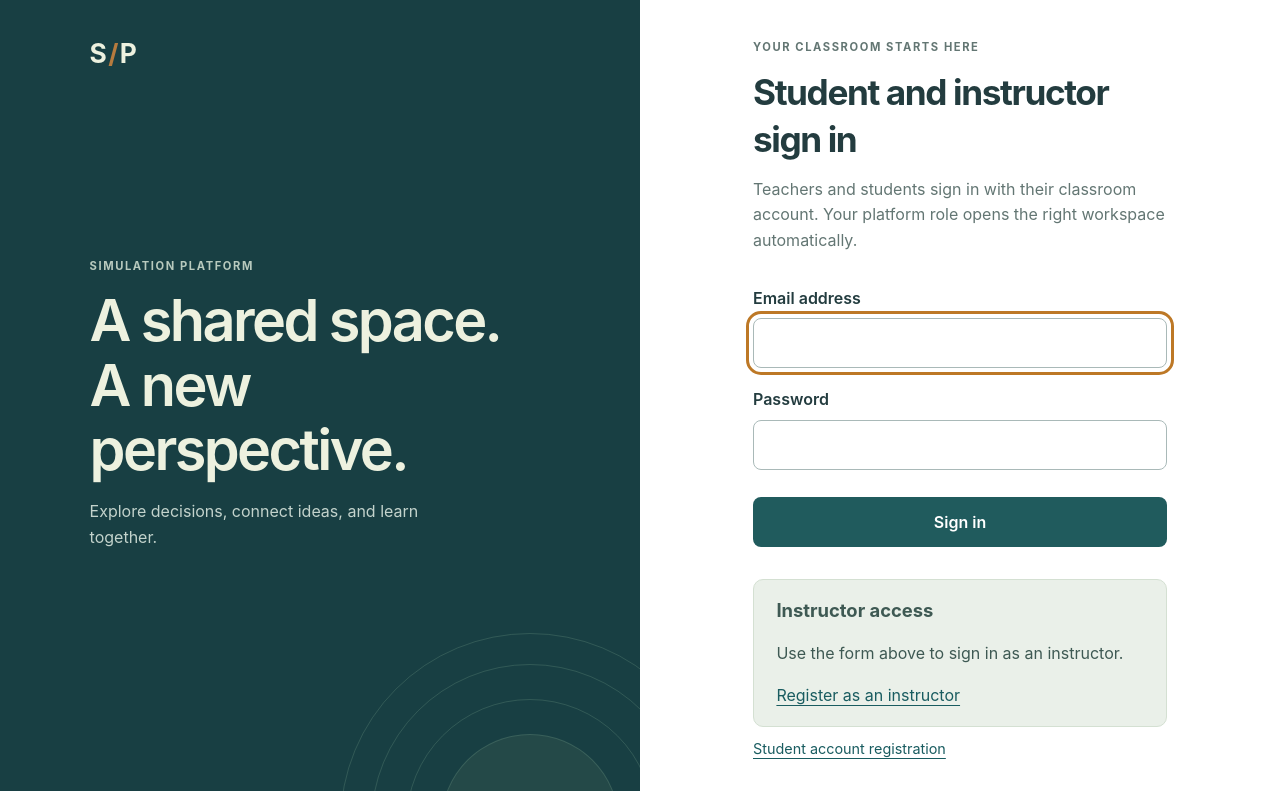
Test: protected routes › shows a friendly fallback for coded unexpected backend errors
Step 1. Type "student@example.test" into the field labelled "Email address" → [960, 343], box [753,318,1167,368]
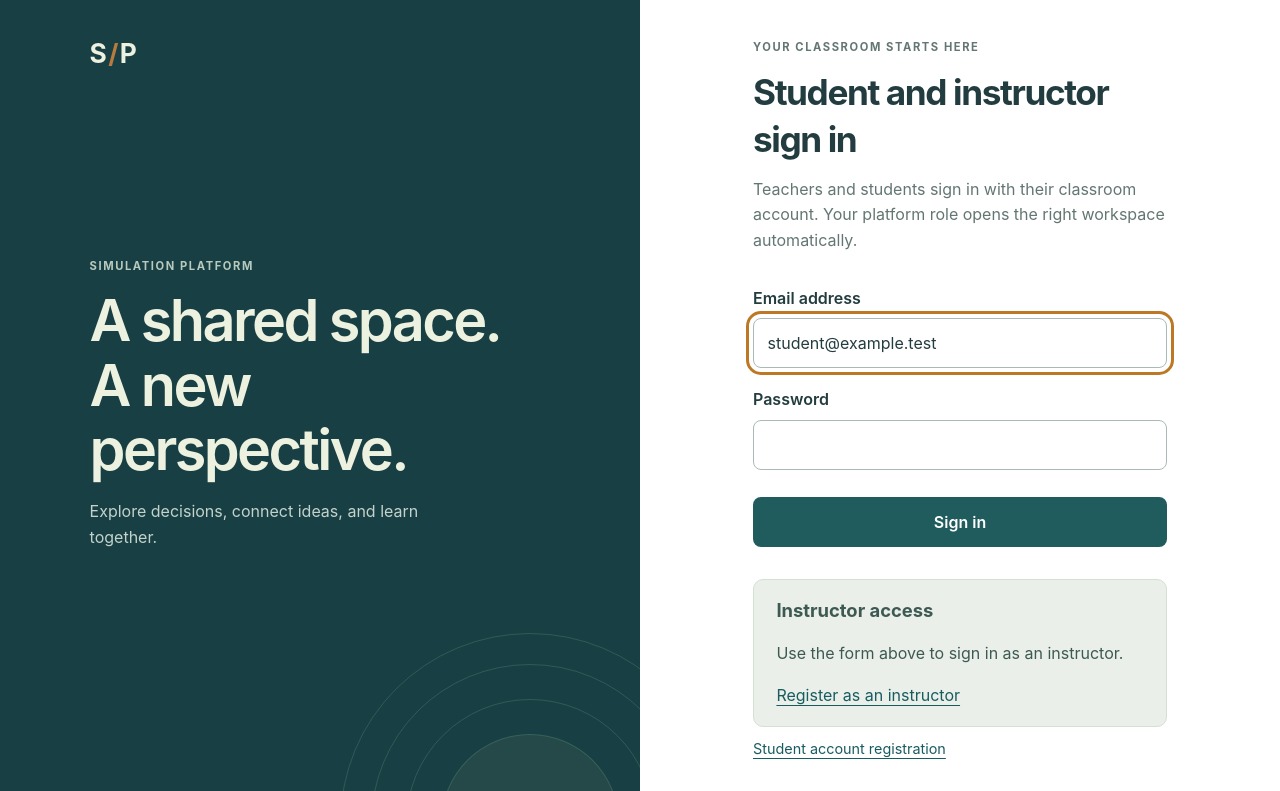
Step 2. Type "incorrect" into the password field labelled "Password" → [960, 445], box [753,420,1167,470]
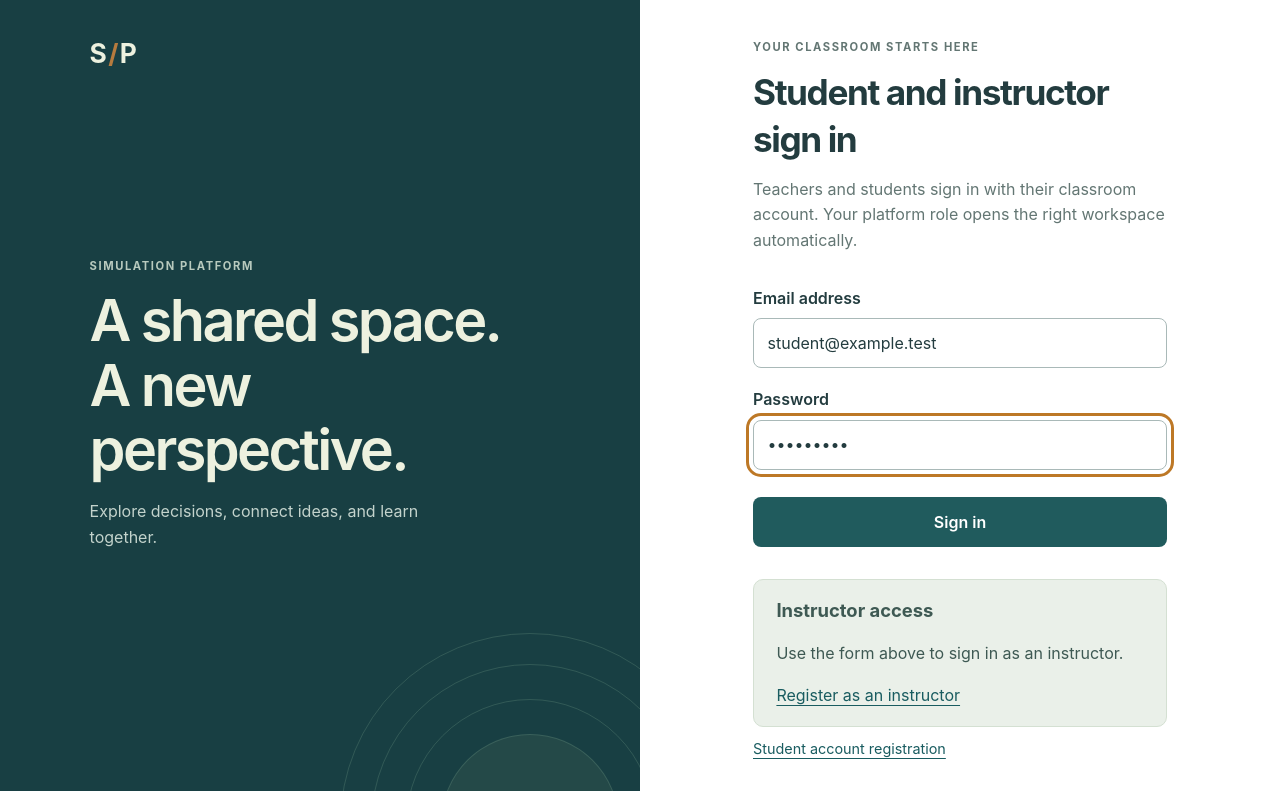
Step 3. Click the button "Sign in" → [960, 522], box [753,497,1167,547]
(page scrolled)
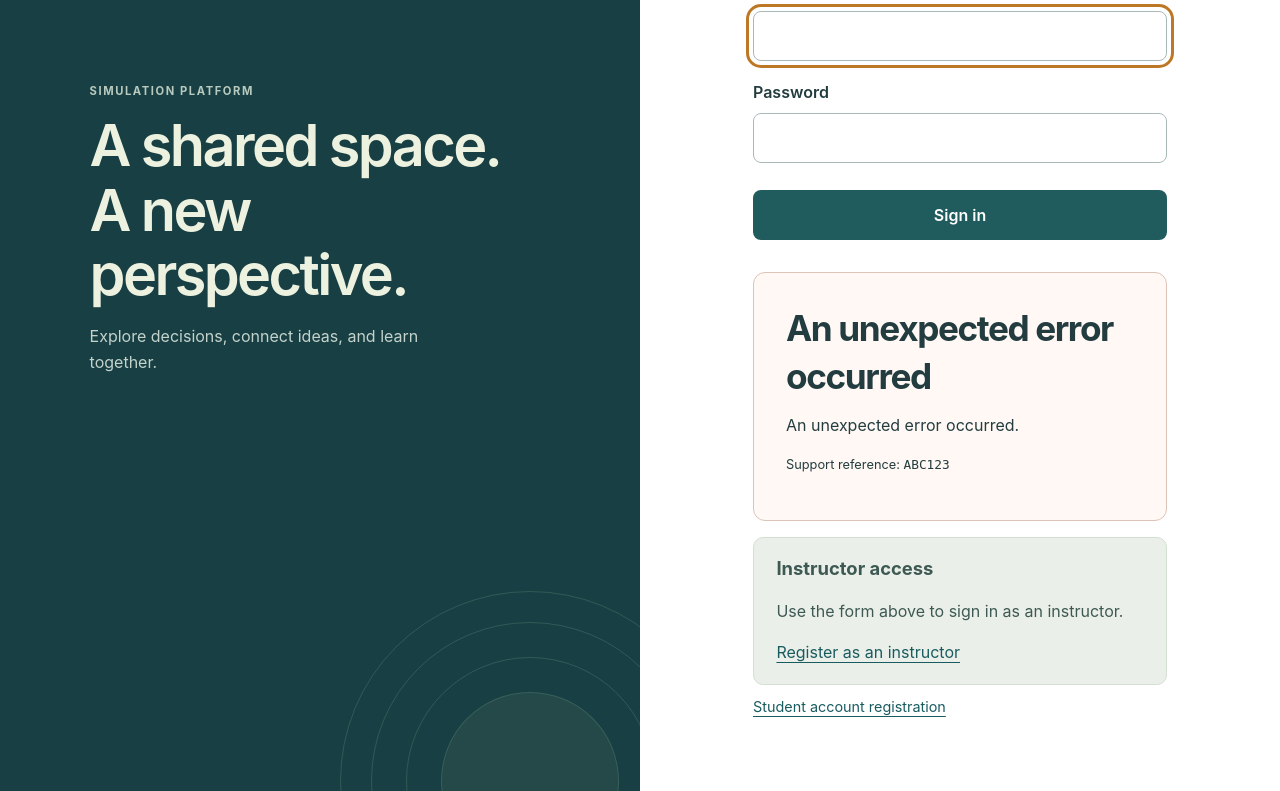
Result: the message shows "An unexpected error occurred" at [786,307,1113,397]
Result: the message shows "Support reference:" at [786,457,904,472]
Result: the message shows "ABC123" at [904,457,950,472]
